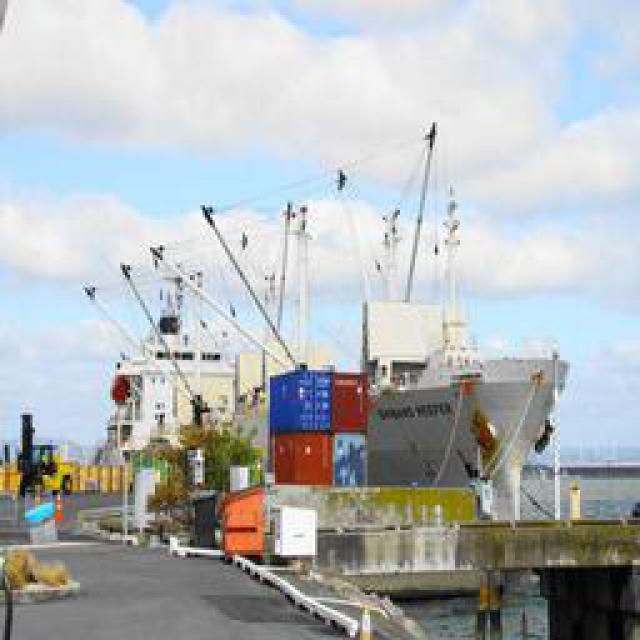Ship: (93, 125, 601, 575)
